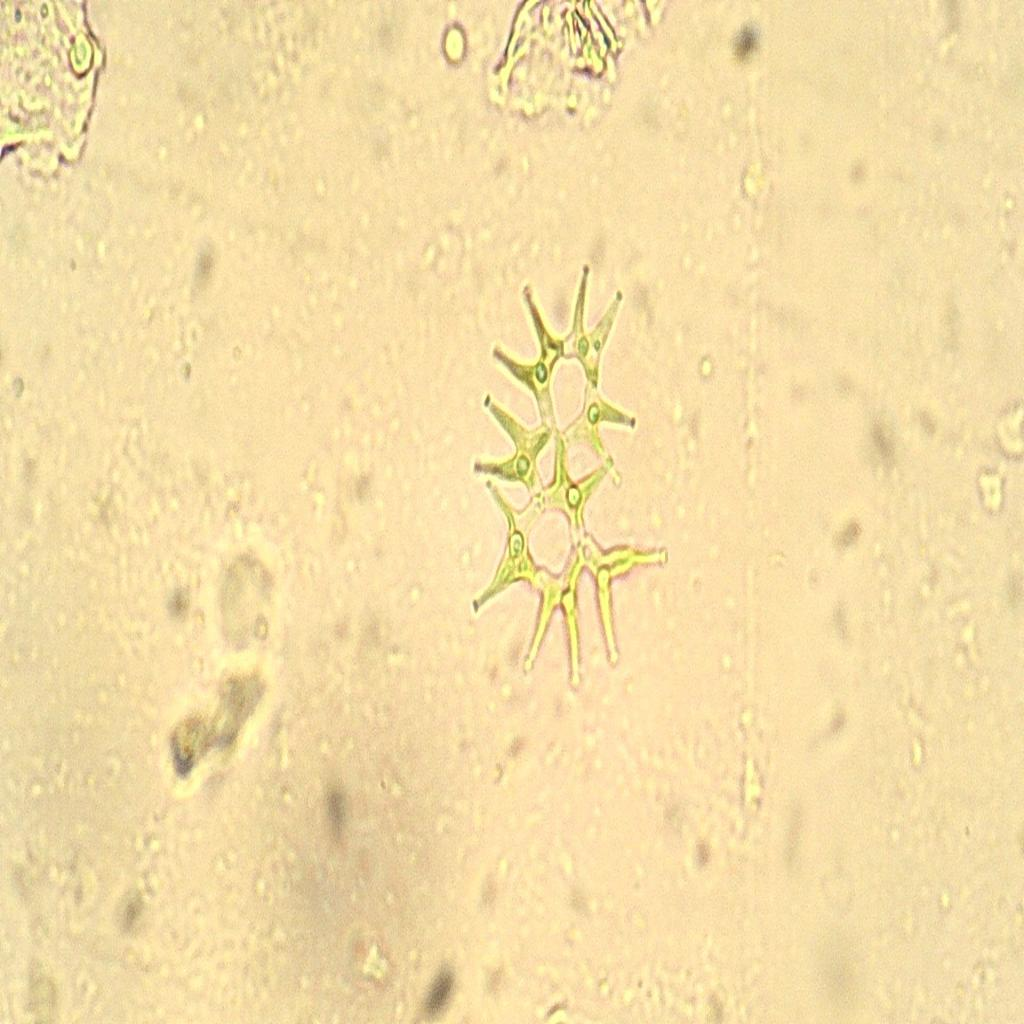Pediastrum_CFI: (444, 239, 690, 708)
